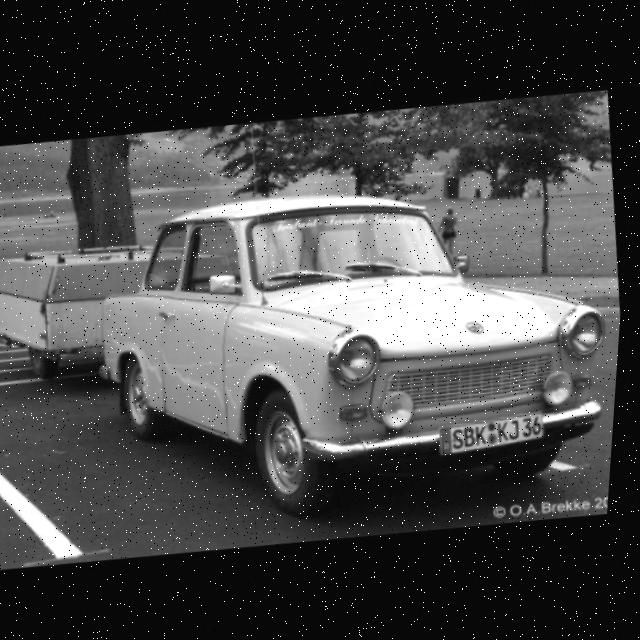license-plates: (440, 413, 545, 456)
